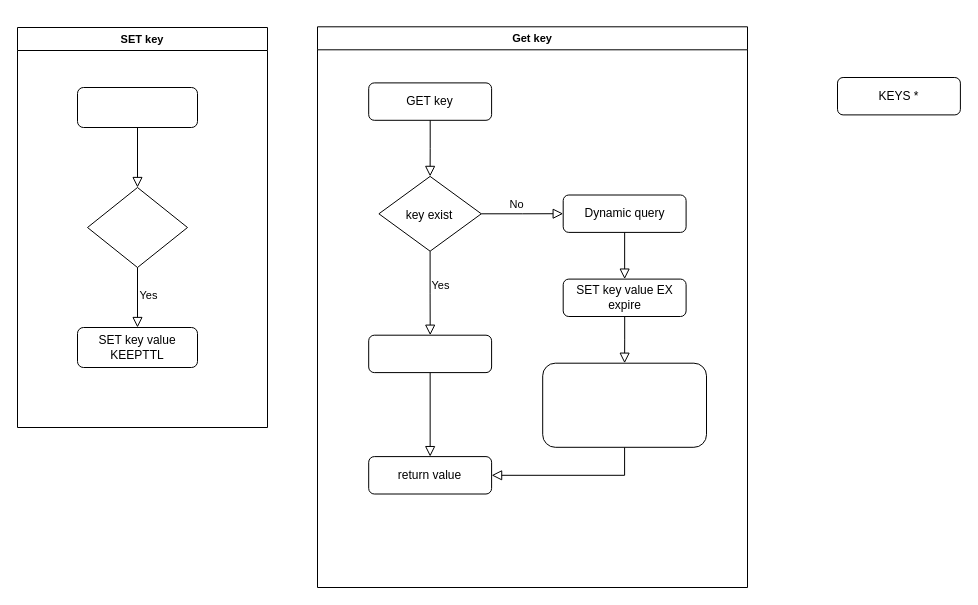
Image size: 978x605. Some labels were removed from this diagram. Here are the shapes that lost their labels. From the top down, the centre of each, then its label:
At pixel 137 107: "SET key value EX exire XX".
At pixel 137 227: "key already exist?".
At pixel 430 353: "EXPIRE key expire".
At pixel 624 404: "UPDATE value_items SET enable = true WHERE index_code = key;".
